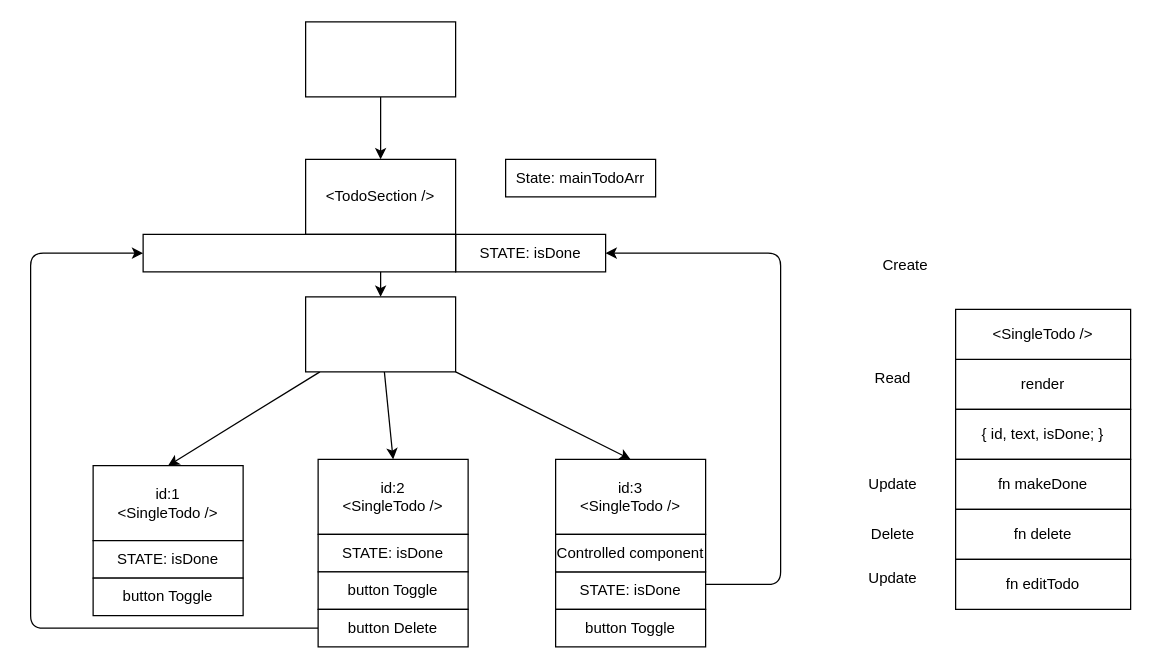
Image size: 1153x669. Some labels were removed from this diagram. Here are the shapes that lost their labels. From the top down, the centre of each, then its label:
At (380,59): "<App />".
At (299,252): "function handleDelete".
At (380,334): "<TodoList />".
